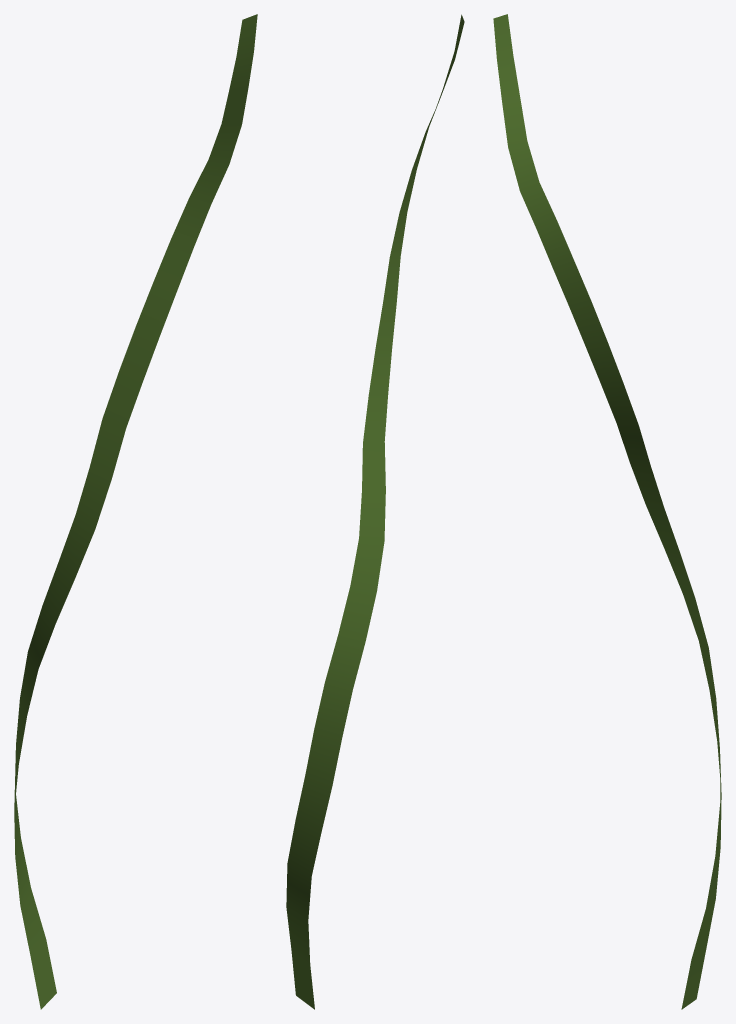
Rendered from plant_swamp_kelp_long_solo_O.fbx.
3 views of the same model, side by side, from view 1: azimuth 90°, elevation 25°; view 2: azimuth 150°, elevation 25°; view 3: azimuth 270°, elevation 25° (orthographic). The views are drawn at different scales.
Parts seen in each view (by area): view 1: plant_swamp_kelp_long_solo_O; view 2: plant_swamp_kelp_long_solo_O; view 3: plant_swamp_kelp_long_solo_O.
Part boxes in pixels (x1,y1,x2,y2): plant_swamp_kelp_long_solo_O: [14, 14, 257, 1009]; plant_swamp_kelp_long_solo_O: [286, 14, 464, 1009]; plant_swamp_kelp_long_solo_O: [493, 14, 721, 1009].
Bounding box in the file's own units: 23.38 × 249 × 53.8.
